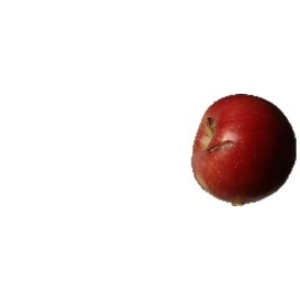maçã braeburn: (190, 91, 297, 203)
